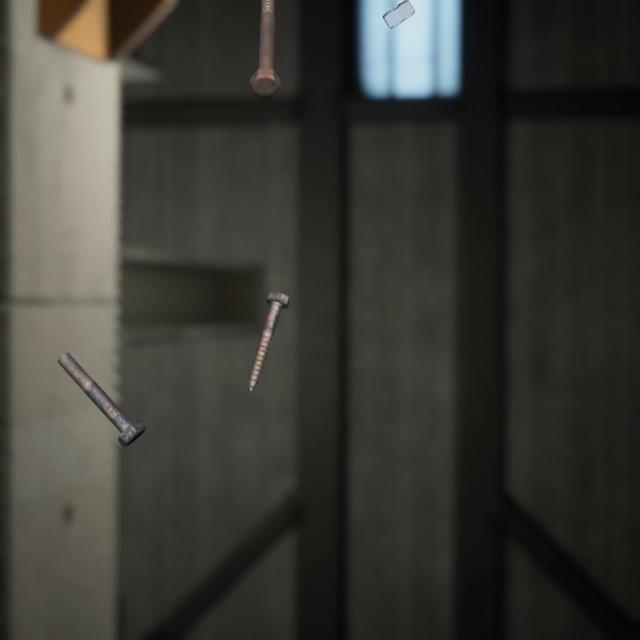bolt: (53, 328, 150, 432), (243, 268, 294, 377), (245, 0, 285, 90)
nut: (378, 0, 419, 26)
